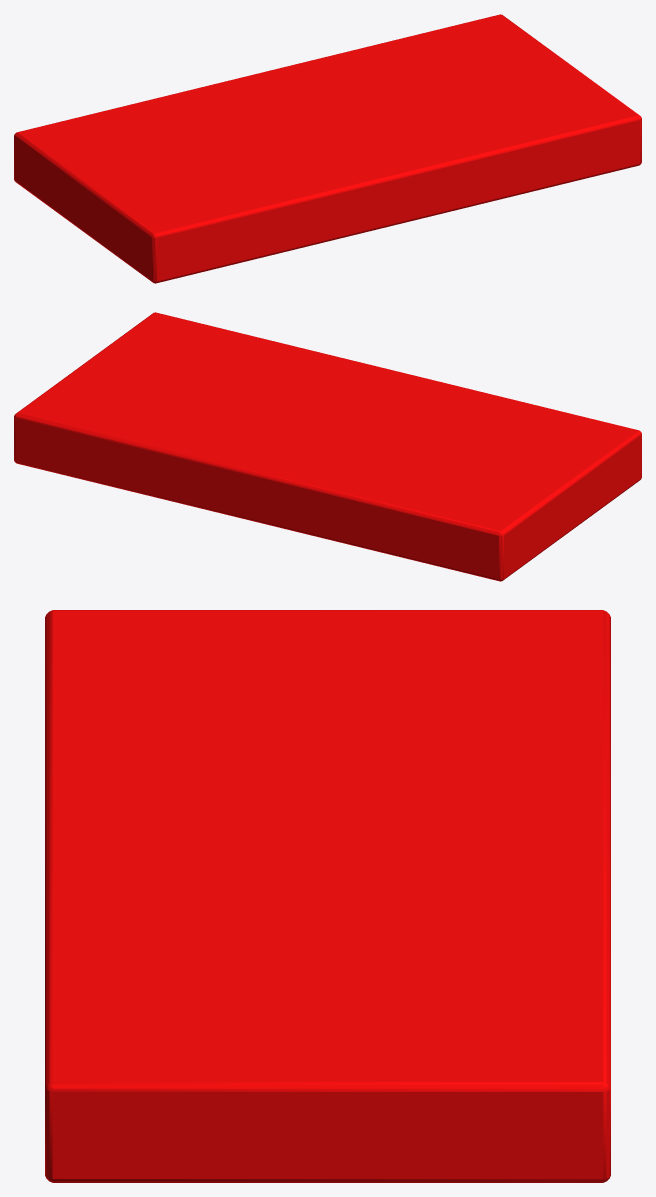
Rendered from FlatCuboidRed.fbx.
The picture shows the model from 3 angles, top to bottom: view 1: azimuth 30°, elevation 25°; view 2: azimuth 150°, elevation 25°; view 3: azimuth 270°, elevation 25°; orthographic projection. The views are drawn at different scales.
Visible parts, largest first — view 1: Cube; view 2: Cube; view 3: Cube.
Part boxes in pixels (box(x1,y1,x2,y2)): Cube: box(14, 14, 641, 283); Cube: box(14, 312, 641, 581); Cube: box(45, 610, 610, 1182).
Bounding box in the file's own units: 6 × 0.5895 × 3.
